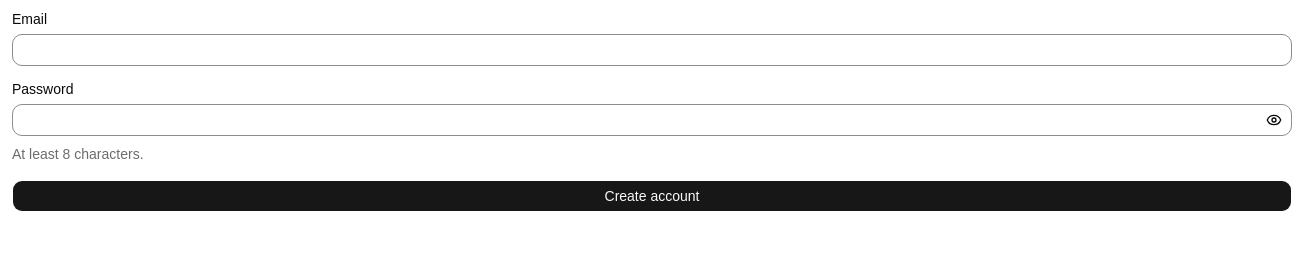
Scenario: AuthForm › when the server refuses › shows field problems next to the fields and marks them invalid
Type "ada@example.com" into the field labelled "Email" at (652, 50), box [12,34,1292,66]
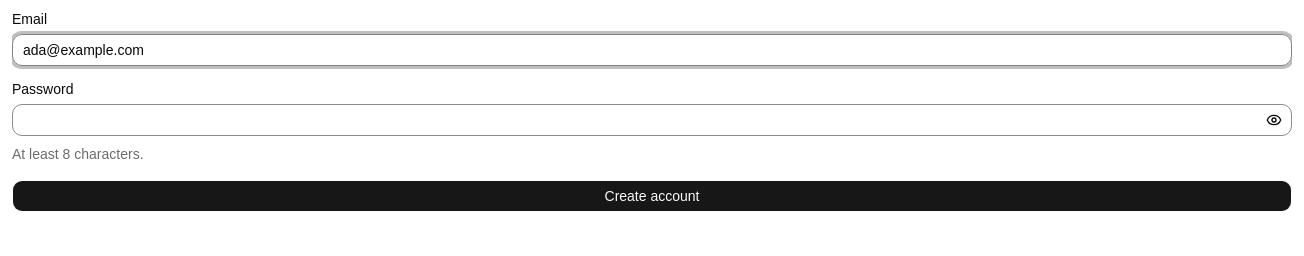
Type "correct horse battery" into the password field labelled "Password" at (652, 120), box [12,104,1292,136]
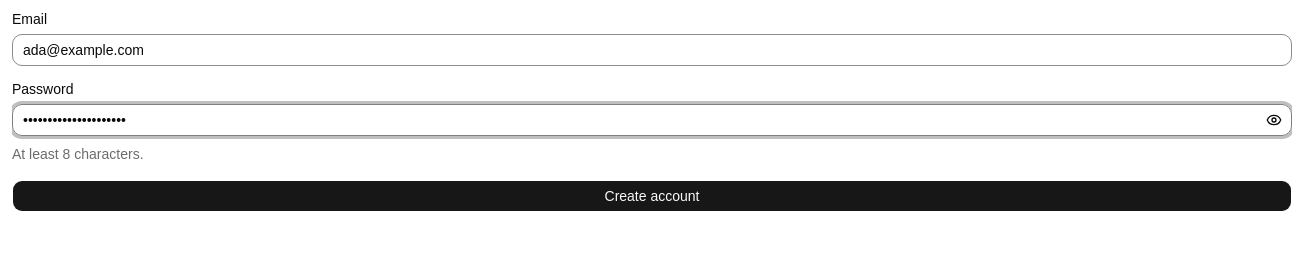
Click the button "Create account" at (652, 196), box [12,180,1292,212]
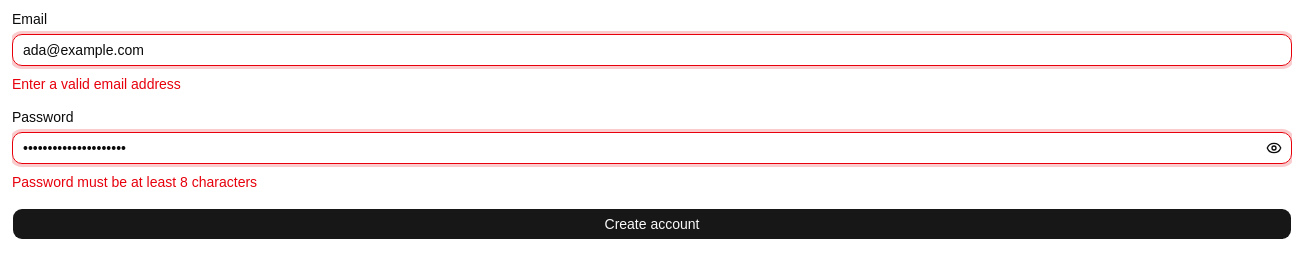
Result: the text "Enter a valid email address" is shown at [12,76,181,92]
Result: the text "Password must be at least 8 characters" is shown at [12,174,257,190]
